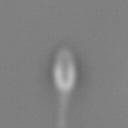normal: (51, 92, 77, 128)
